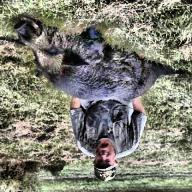boar: (15, 14, 166, 117)
